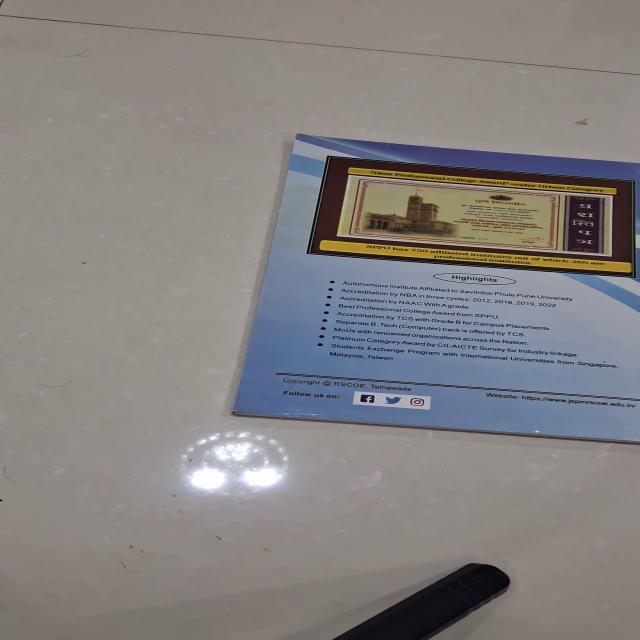paper: (229, 133, 639, 443)
